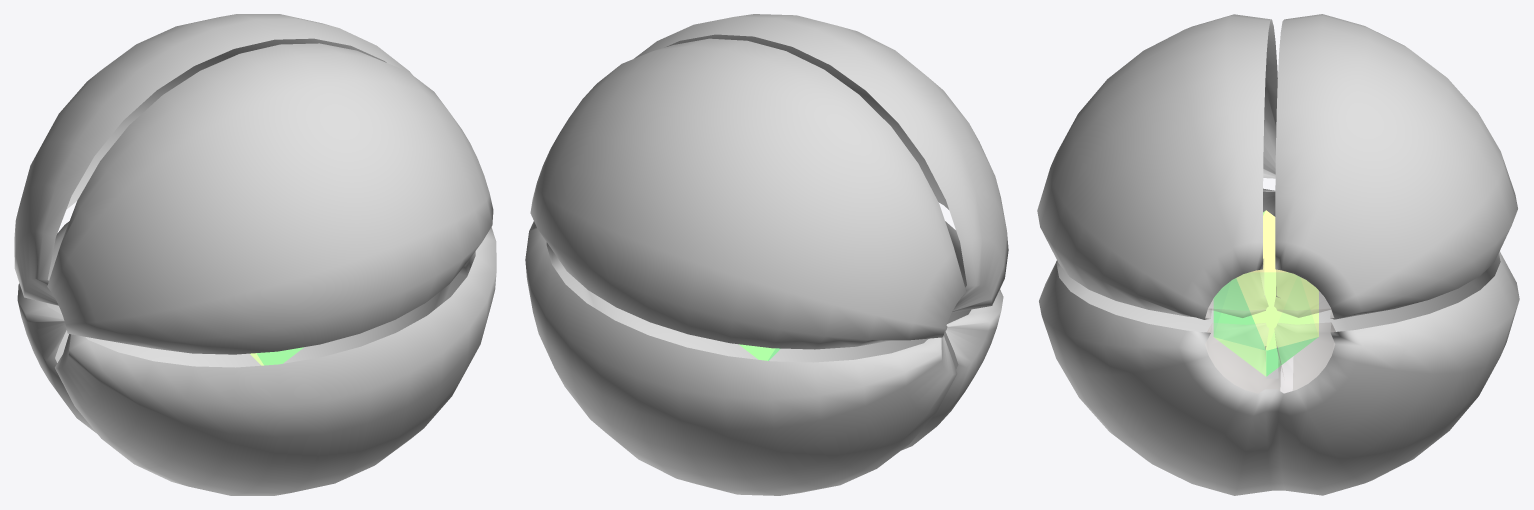
Rendered from MolecEmissive_lowtextures.glb.
The picture shows the model from 3 angles, left to right: view 1: azimuth 30°, elevation 25°; view 2: azimuth 150°, elevation 25°; view 3: azimuth 270°, elevation 25°; orthographic projection.
Parts seen in each view (by area): view 1: Molec, Icosphere.001; view 2: Molec; view 3: Molec, Icosphere.001.
Part boxes in pixels (<box>): Molec: <box>14,14,496,495</box>; Icosphere.001: <box>250,347,303,365</box>; Molec: <box>525,14,1008,495</box>; Molec: <box>1037,14,1519,495</box>; Icosphere.001: <box>1213,210,1318,376</box>.
Bounding box in the file's own units: 1.22 × 1.21 × 1.21.
